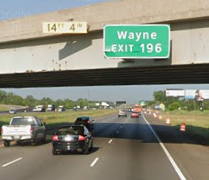1: (46, 22, 51, 32)
4: (50, 22, 57, 33), (68, 22, 75, 32)
overheadsign: (42, 21, 88, 34)
